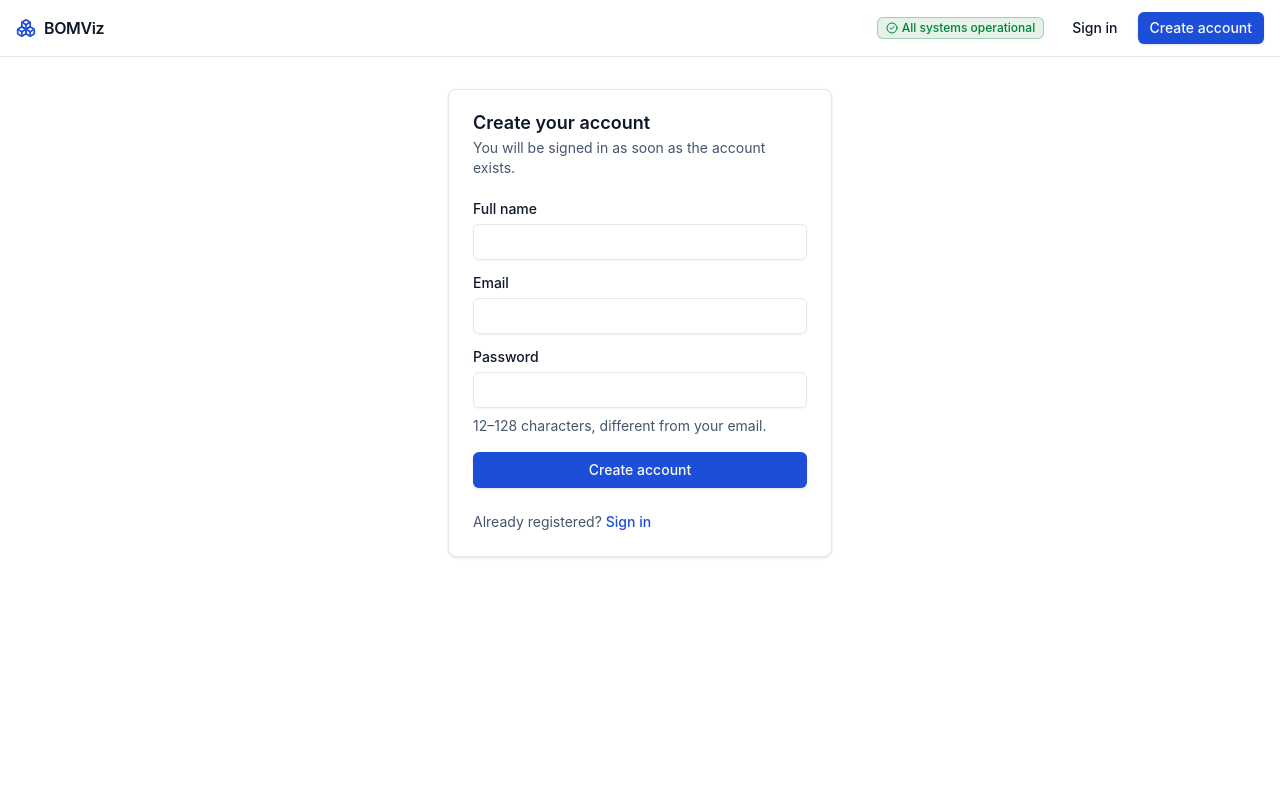
it: RegisterPage › rejects a short password without contacting the server
Type "Ada Lovelace" into the field labelled "Full name".
click(640, 242); type("Ada Lovelace")  # box 473,224 -> 807,260
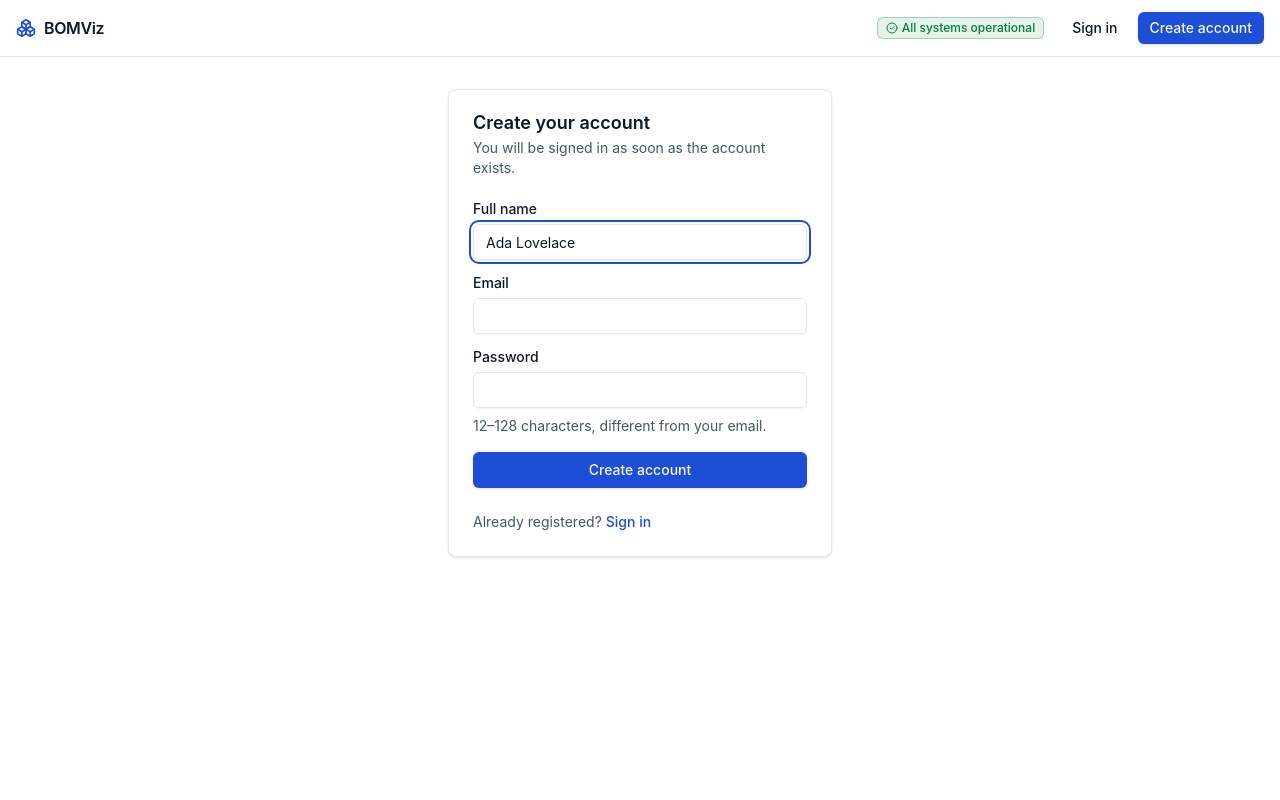
Type "ada@example.com" into the field labelled "Email".
click(640, 316); type("ada@example.com")  # box 473,298 -> 807,334
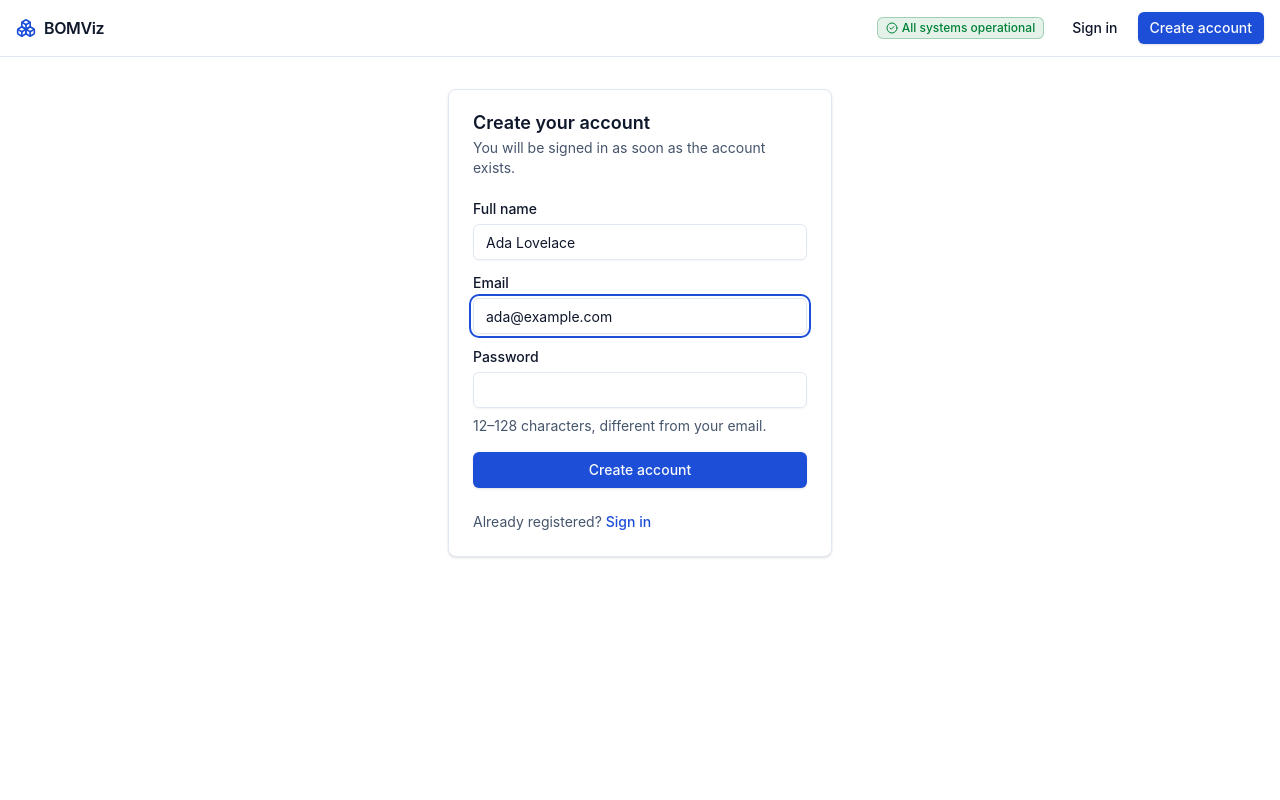
Type "short" into the password field labelled "Password".
click(640, 390); type("short")  # box 473,372 -> 807,408
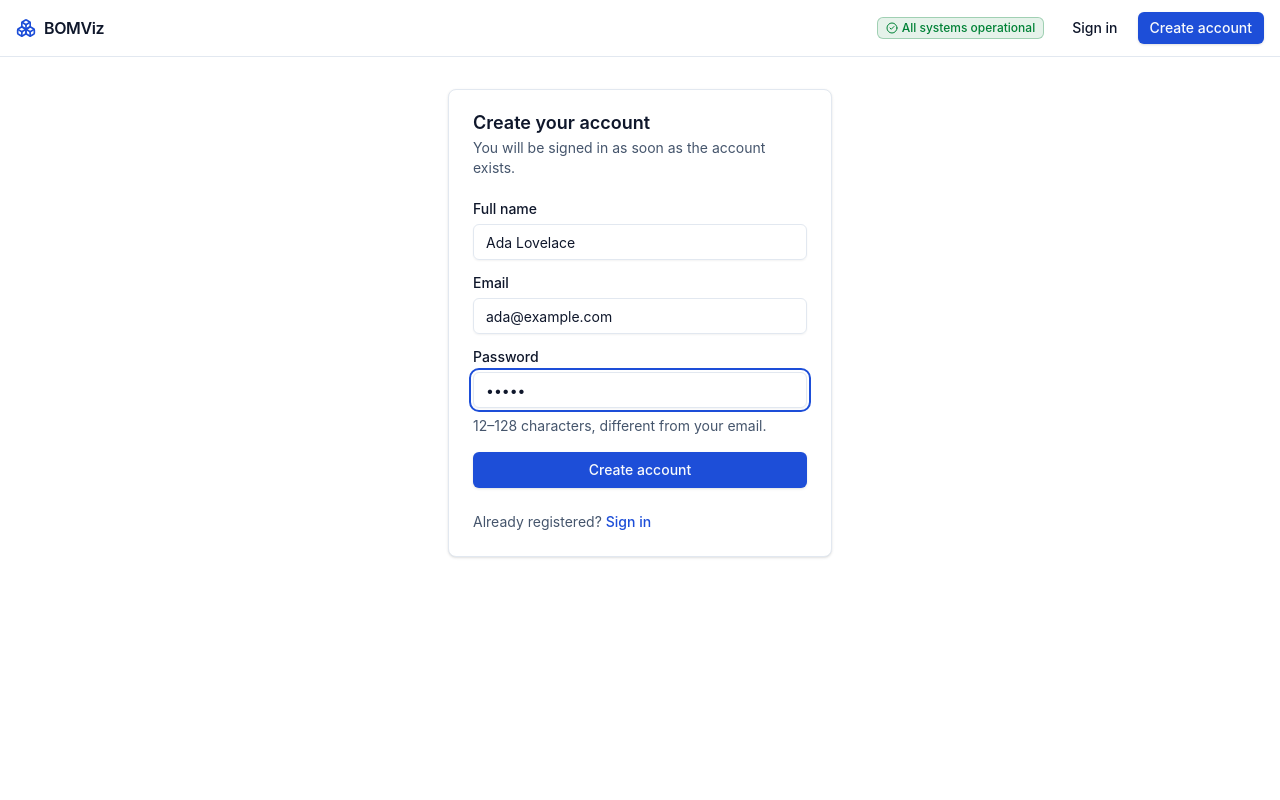
Click the button "Create account".
click(640, 470)  # box 473,452 -> 807,488
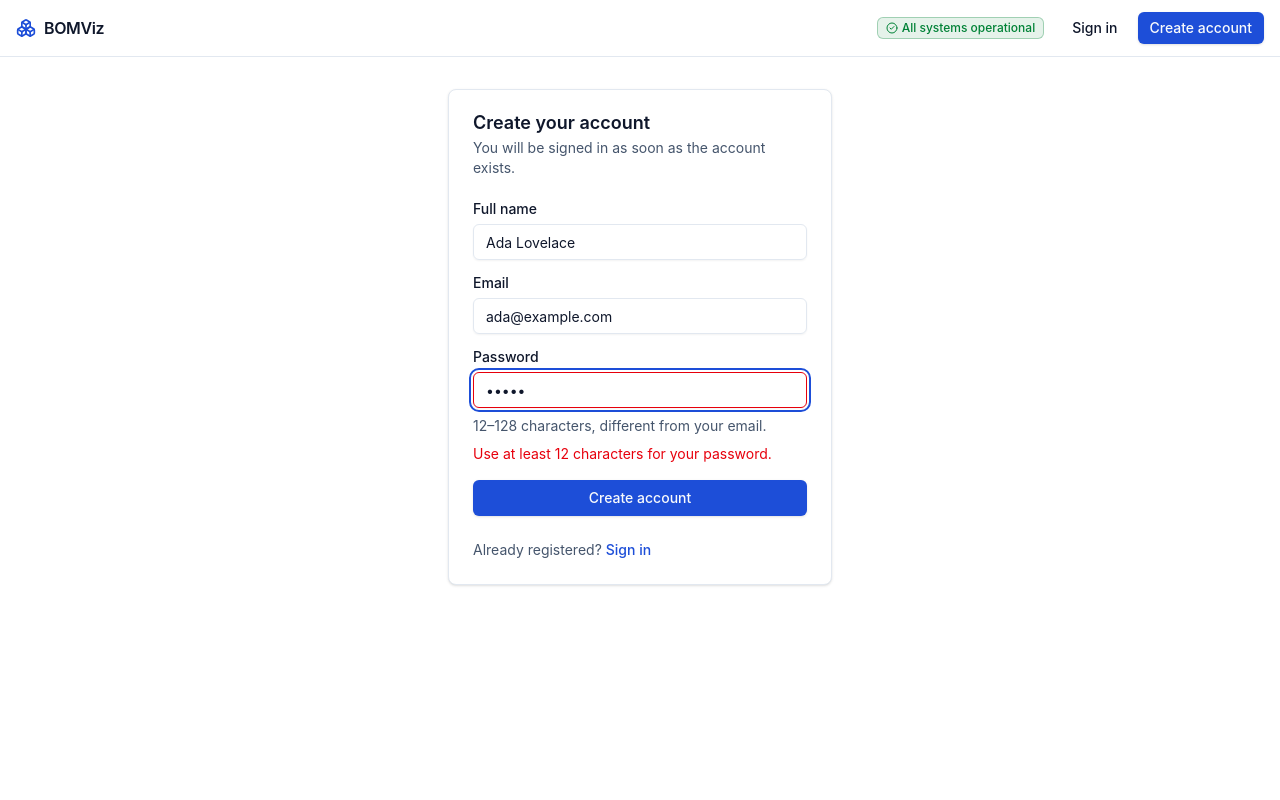
Expected: the text "Use at least 12 characters for your password." is shown, 473,444 -> 807,464
